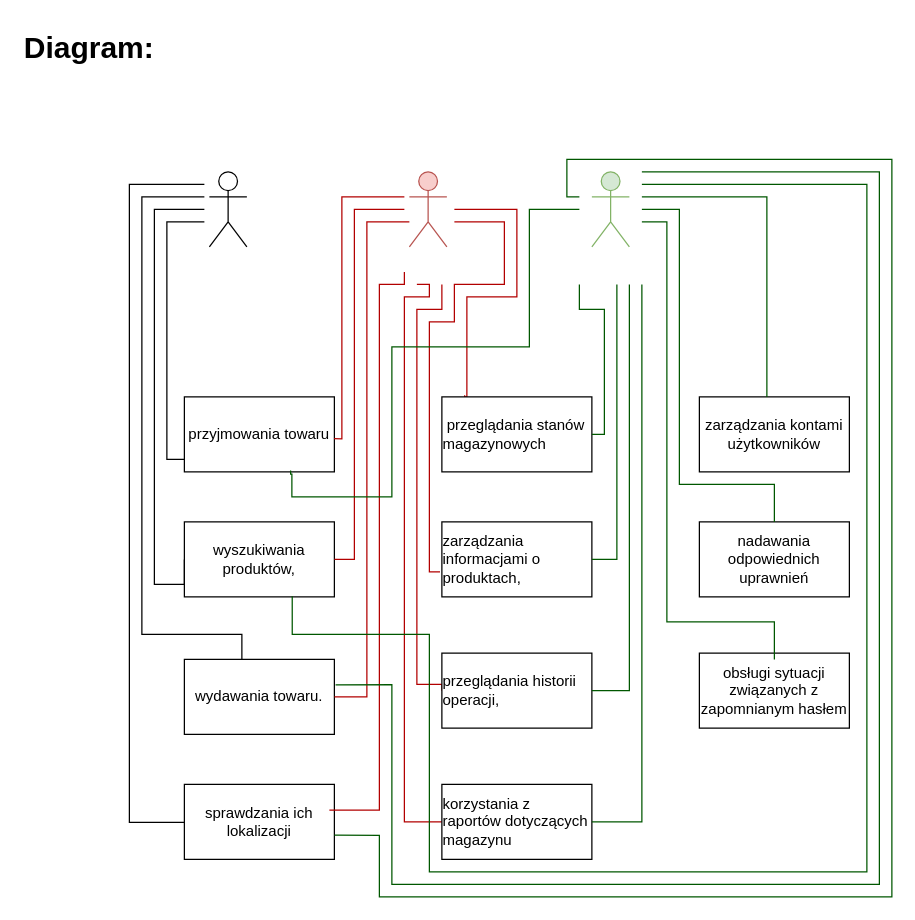
This 915x920 diagram has some shape labels left out. Here are the shapes that lost their labels. From the top down, the centre of each, then its label:
At point 227,209: "Magazynier".
At point 427,209: "Kierownik".
At point 610,209: "Administrator".
